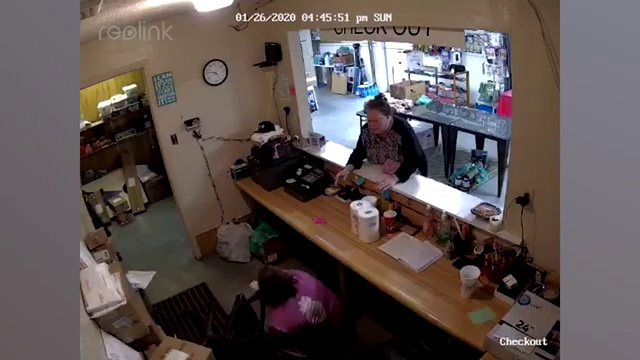face: (365, 109, 388, 134)
